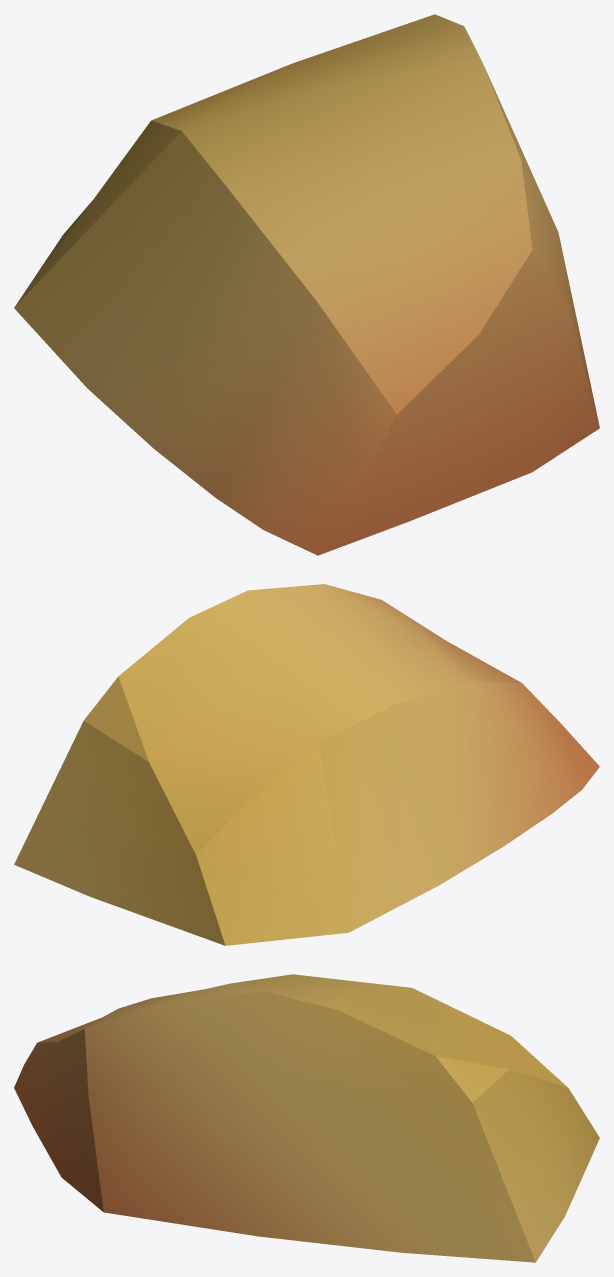
The model's file is Canyon_Stone_010.FBX.
The picture shows the model from 3 angles, top to bottom: view 1: azimuth 30°, elevation 25°; view 2: azimuth 150°, elevation 25°; view 3: azimuth 270°, elevation 25°; orthographic projection. The views are drawn at different scales.
Visible parts, largest first — view 1: Canyon_Stone_010; view 2: Canyon_Stone_010; view 3: Canyon_Stone_010.
Part boxes in pixels (left/top/right/bottom): Canyon_Stone_010: left=14, top=14, right=599, bottom=555; Canyon_Stone_010: left=14, top=584, right=599, bottom=945; Canyon_Stone_010: left=14, top=974, right=599, bottom=1262.
Bounding box in the file's own units: 119 × 66.79 × 163.
1 material, 1 textured.
